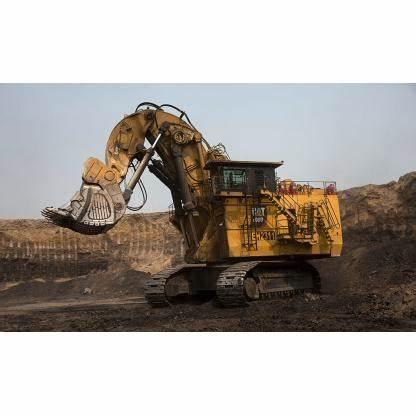excavator: (40, 107, 348, 324)
